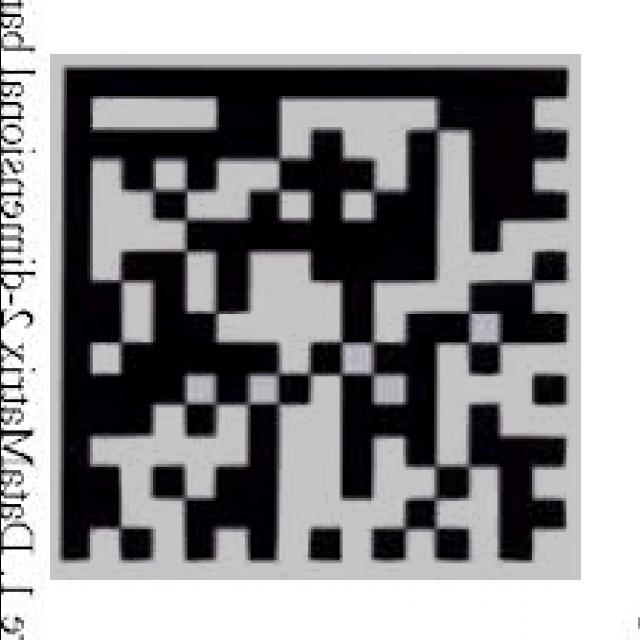DataMatrix: (49, 54, 580, 580)
